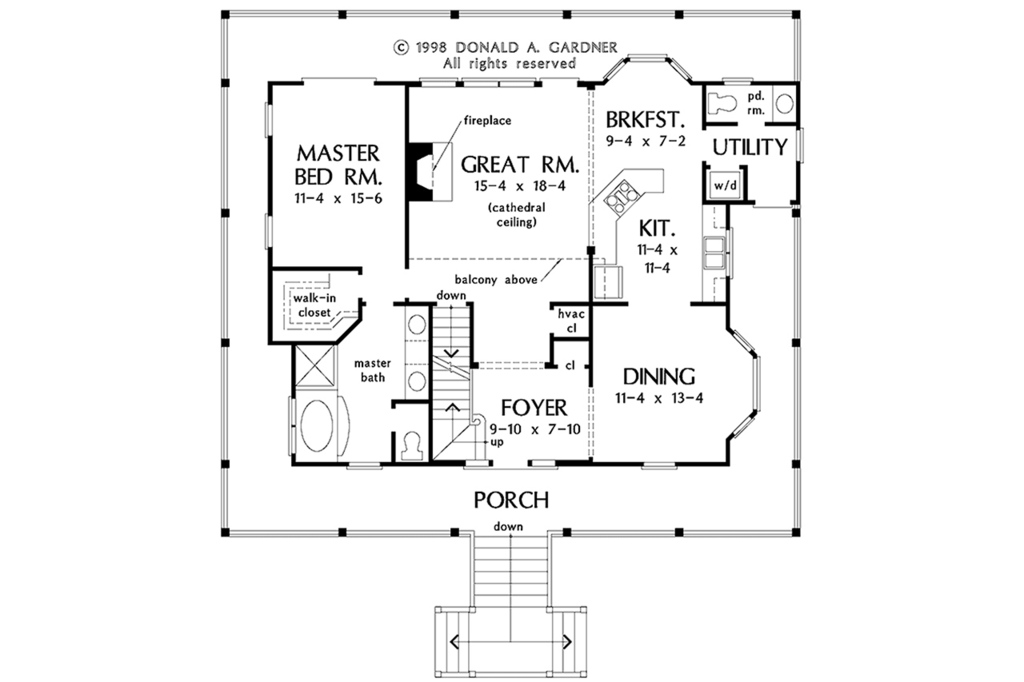kitchen_bar: (582, 163, 676, 260)
large_sink: (699, 87, 745, 124), (394, 427, 431, 467)
small_sink: (400, 306, 428, 404), (768, 78, 794, 129)
stairs: (417, 528, 618, 682), (430, 302, 503, 461)
tub: (295, 389, 339, 468)
twin_sink: (698, 231, 730, 274)
window: (726, 325, 763, 448), (597, 45, 700, 85), (414, 73, 556, 92), (257, 204, 282, 251), (638, 456, 689, 474), (258, 99, 277, 137), (347, 456, 388, 469)
